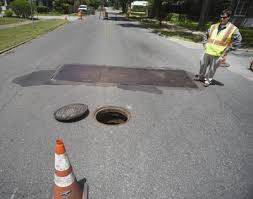Manhole-Open: (94, 104, 140, 129)
human: (197, 6, 243, 89)
